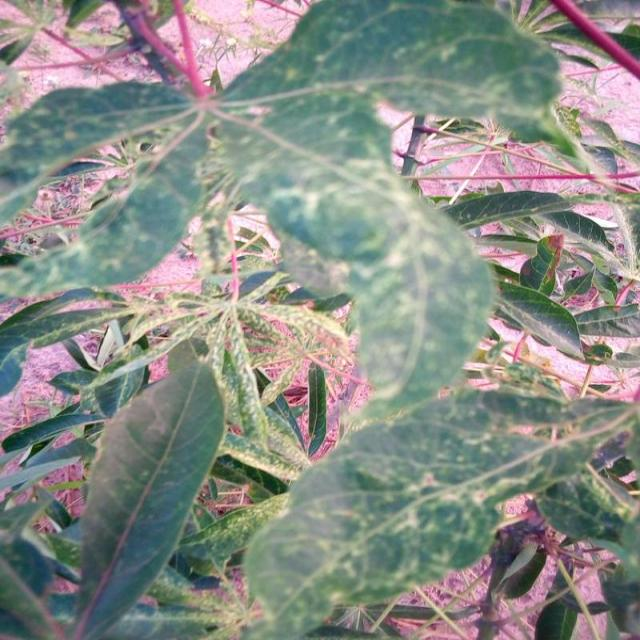cassava leaf: (0, 0, 638, 638), (70, 356, 226, 638)
